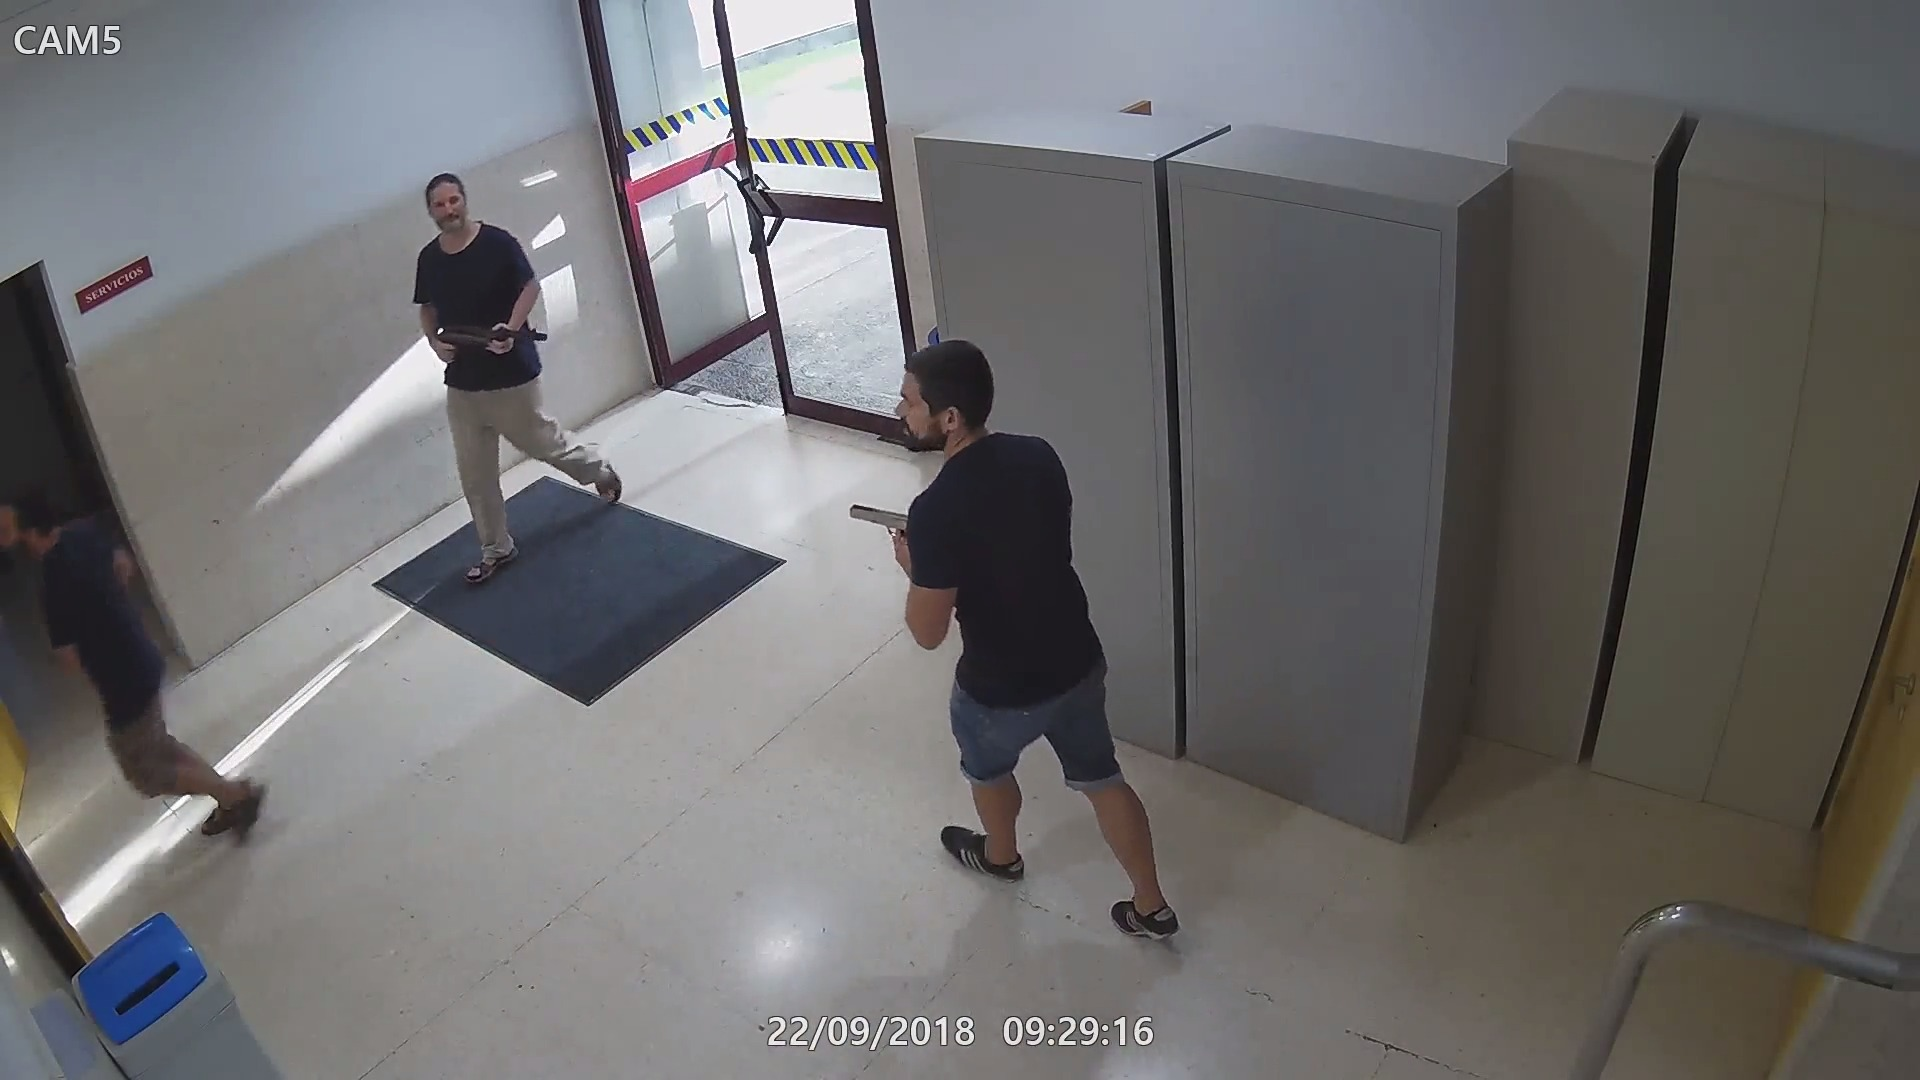pistol: (847, 502, 920, 571)
rifle: (429, 320, 551, 363)
